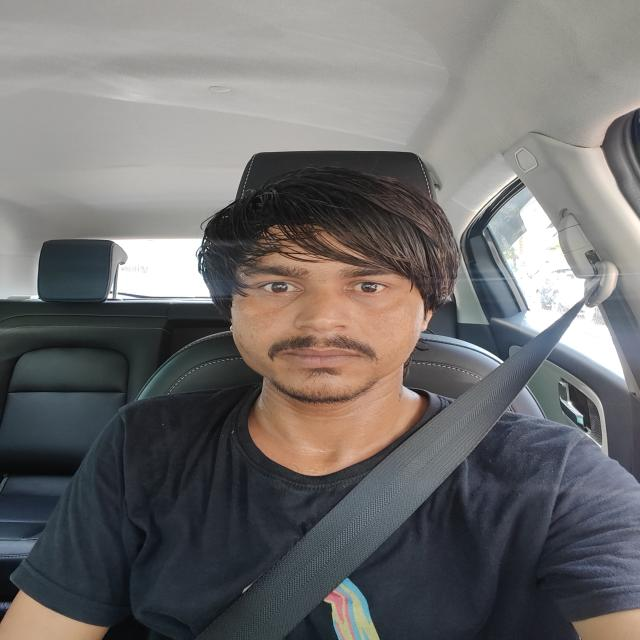seatbelt: (152, 249, 636, 623)
